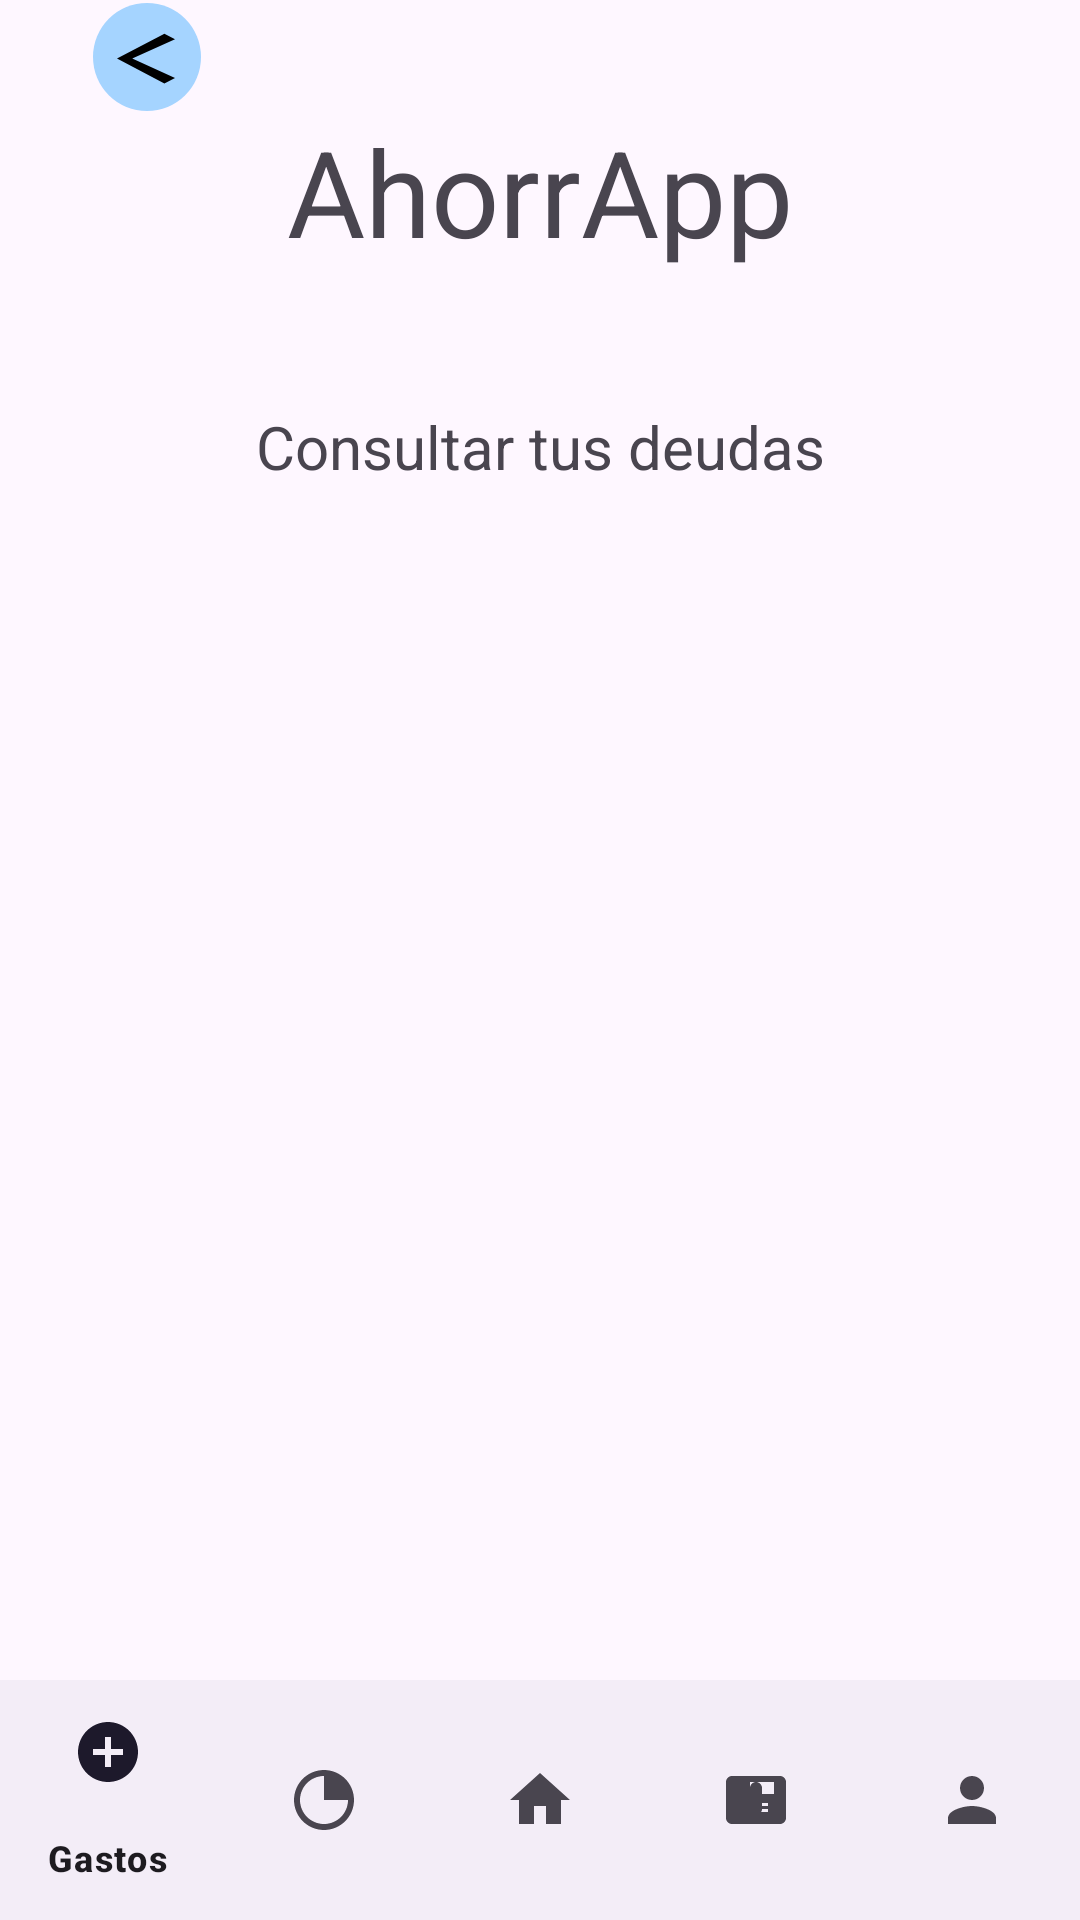

Screen size 1080px x 1920px. Icon name, then its box in pixels as (x1, y1, x2, y2):
arrow back: (93, 3, 201, 111)
